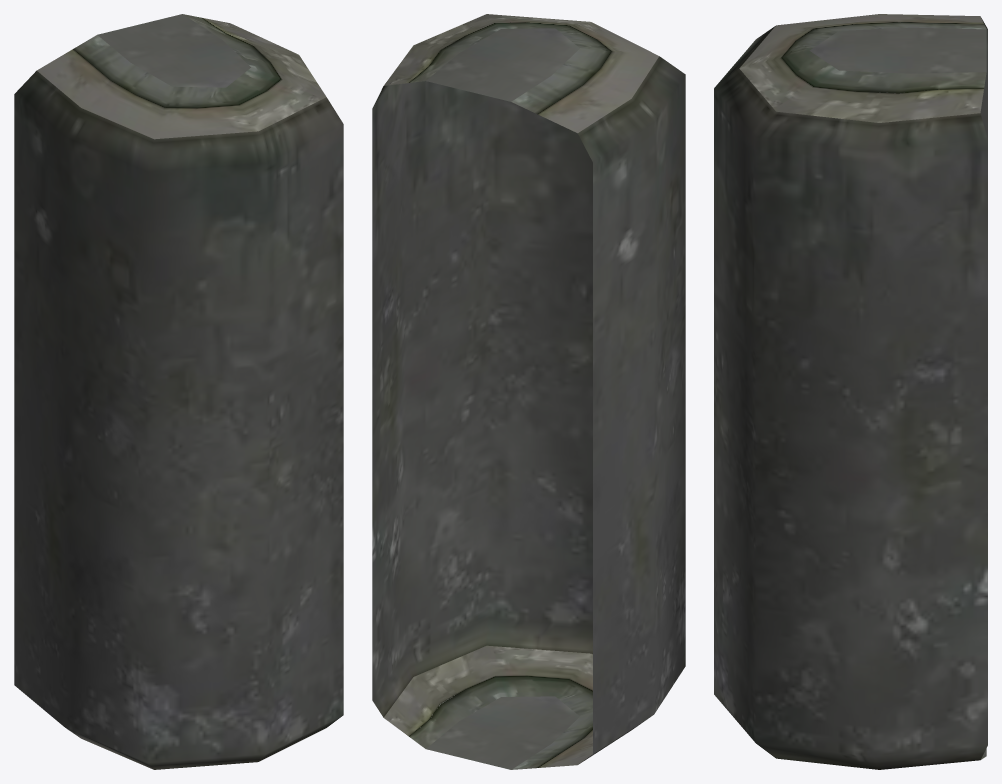
3 renders of one model, left to right at view 1: azimuth 30°, elevation 25°; view 2: azimuth 150°, elevation 25°; view 3: azimuth 270°, elevation 25°, orthographic. The views are drawn at different scales.
Parts seen in each view (by area): view 1: SM_DeathTemple_Detail_1x1_01_v1_LOD0; view 2: SM_DeathTemple_Detail_1x1_01_v1_LOD0; view 3: SM_DeathTemple_Detail_1x1_01_v1_LOD0.
Boxes of the visible parts, <box> form: SM_DeathTemple_Detail_1x1_01_v1_LOD0: <box>14,14,343,769</box>; SM_DeathTemple_Detail_1x1_01_v1_LOD0: <box>372,14,685,769</box>; SM_DeathTemple_Detail_1x1_01_v1_LOD0: <box>714,14,987,769</box>.
Bounding box in the file's own units: 0.4161 × 1.07 × 0.3888.
1 material, 1 textured.
